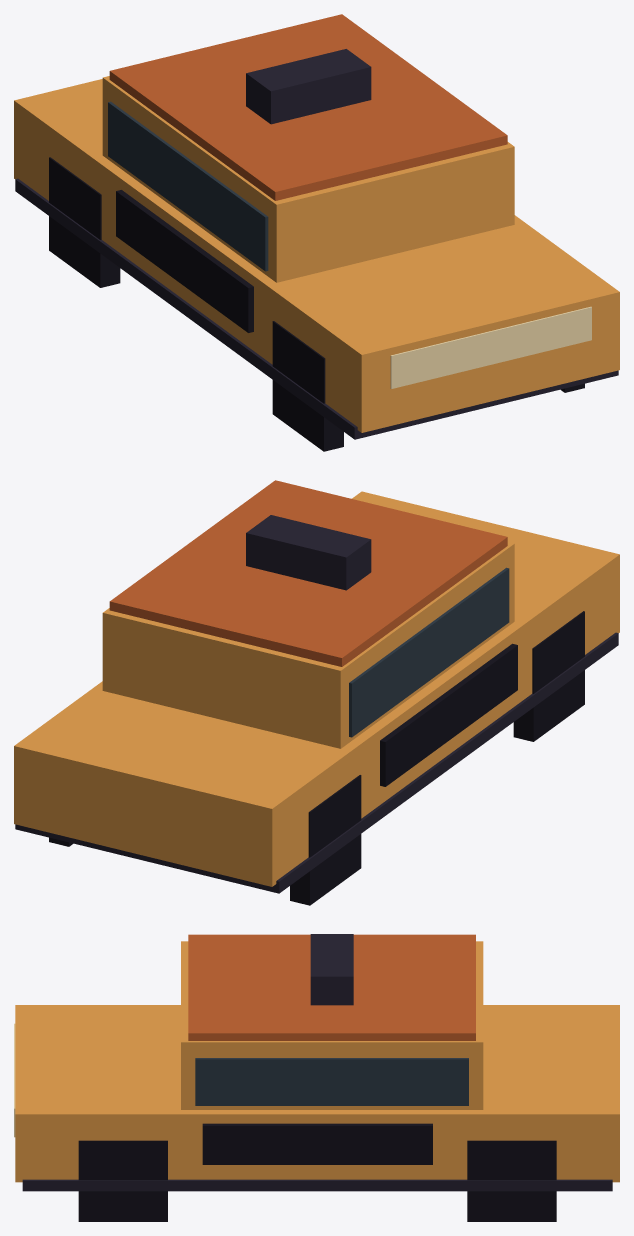
File: taxi.obj
The picture shows the model from 3 angles, top to bottom: view 1: azimuth 30°, elevation 25°; view 2: azimuth 150°, elevation 25°; view 3: azimuth 270°, elevation 25°; orthographic projection. The views are drawn at different scales.
Visible parts, largest first — view 1: taxi; view 2: taxi; view 3: taxi.
Boxes of the visible parts, x1,y1,x2,y2 form: taxi: (14, 14, 619, 451); taxi: (14, 480, 619, 905); taxi: (14, 934, 619, 1221).
Size of the model in its own units: 1.88 by 1.62 by 4.21.
